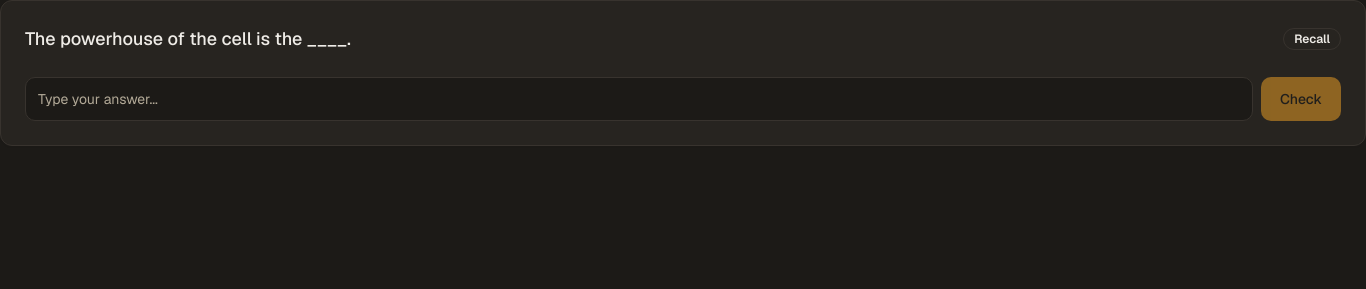
Test case: QuizCard › shows feedback for fill-blank after submitting
In the field: [639, 99] box [25,77,1253,121], type "mitochondria"
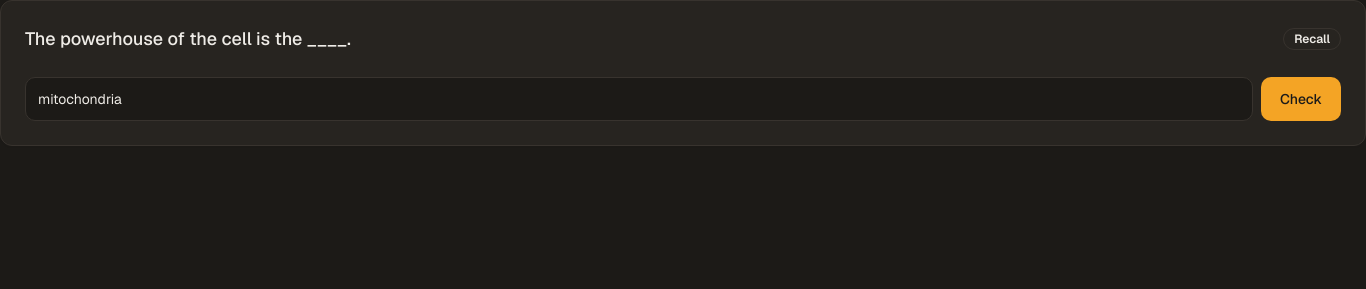
Click the button "Check": [1301, 99] box [1261,77,1341,121]
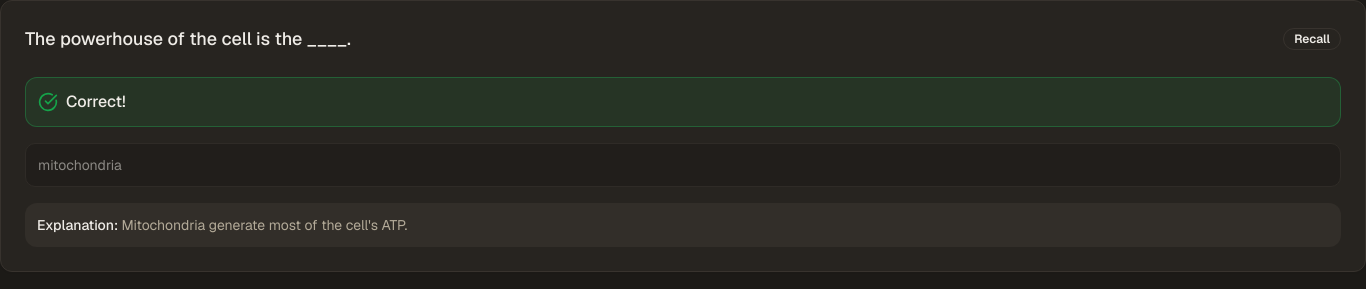
Expected: the text "Correct!" is shown, [66,90,126,114]
